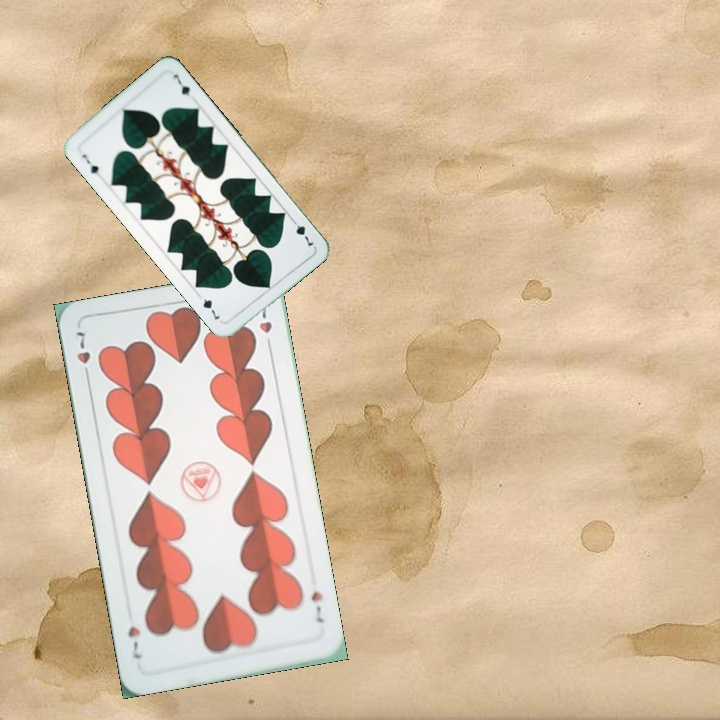G7: (287, 214, 316, 250), (78, 150, 101, 177)
H7: (72, 325, 93, 384), (307, 587, 327, 626)
